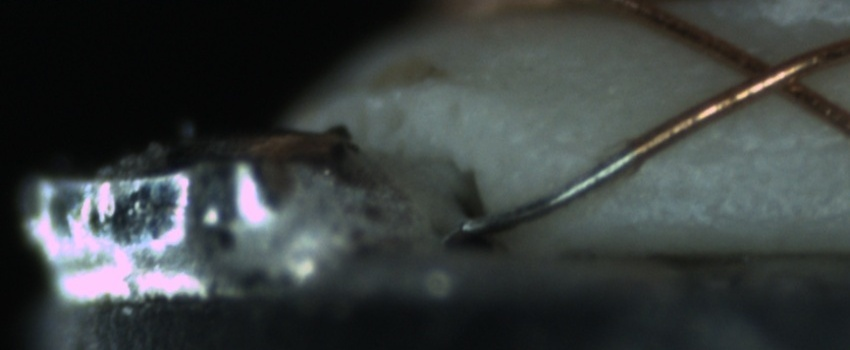CL: (723, 40, 830, 110)
DL: (629, 120, 849, 184)
TS: (463, 145, 640, 236)
